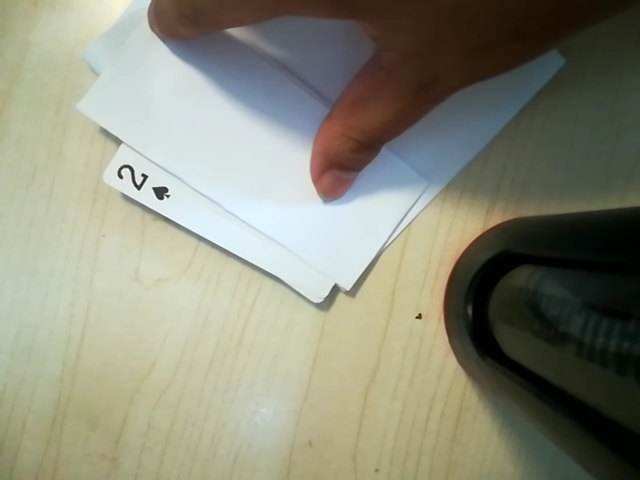ht 2: (109, 148, 175, 208)
